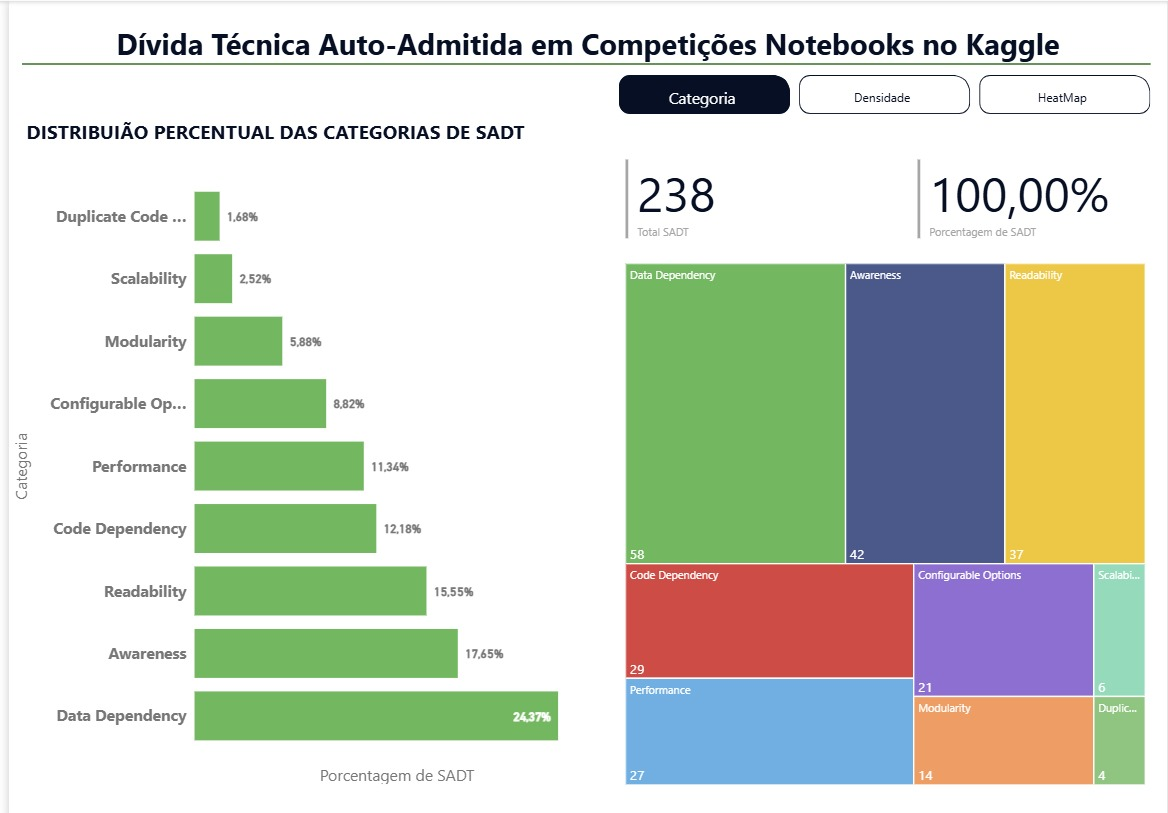

What the dashboard file says about the page in this screenshot:
{"tool":"powerbi","page":{"name":"Categoria","canvas":[1280,906],"ordinal":0},"visuals":[{"type":"treemap","fields":{"Values":["Medidas.TotalSADts"],"Group":["sadts_classificadas_IA.tipo_de_divida"]},"box":[676.7,284.7,584.3,586.1],"z":0},{"type":"clusteredBarChart","fields":{"Category":["sadts_classificadas_IA.tipo_de_divida"],"Y":["Medidas.PercentSADTs"]},"box":[0,170.2,657.4,700.5],"z":1000},{"type":"multiRowCard","fields":{"Values":["Medidas.PercentSADTs"]},"box":[998.4,170.1,262.6,114.6],"z":2000},{"type":"pageNavigator","title":"Navegador","box":[674,81.8,587.8,43.1],"z":3000},{"type":"textbox","box":[14.4,124.9,597.7,46.4],"z":4000},{"type":"multiRowCard","fields":{"Values":["Medidas.TotalSADts"]},"box":[676.2,170.2,261.9,114.9],"z":5000},{"type":"textbox","box":[74,19.9,1131.4,59.7],"z":6000},{"type":"shape","box":[14.4,57.5,1247.4,24.3],"z":7000}]}

Visuals, with their boxes in screenshot pixels (x1, y1, x2, y2), scaled from the page's 1280x906 canvas onto the 1168x813 screenshot:
treemap - Medidas.TotalSADts x sadts_classificadas_IA.tipo_de_divida: l=617, t=255, r=1151, b=781
clusteredBarChart - sadts_classificadas_IA.tipo_de_divida x Medidas.PercentSADTs: l=0, t=153, r=600, b=781
multiRowCard - Medidas.PercentSADTs: l=911, t=153, r=1151, b=255
"Navegador" pageNavigator: l=615, t=73, r=1151, b=112
textbox: l=13, t=112, r=559, b=154
multiRowCard - Medidas.TotalSADts: l=617, t=153, r=856, b=256
textbox: l=68, t=18, r=1100, b=71
shape: l=13, t=52, r=1151, b=73
